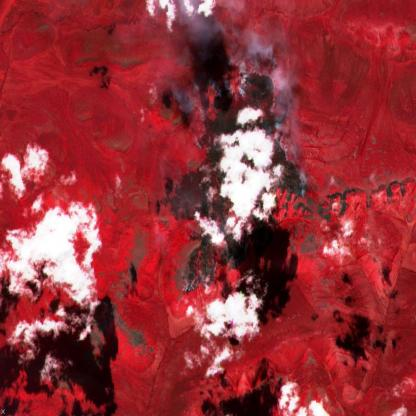fire: (155, 57, 310, 300)
